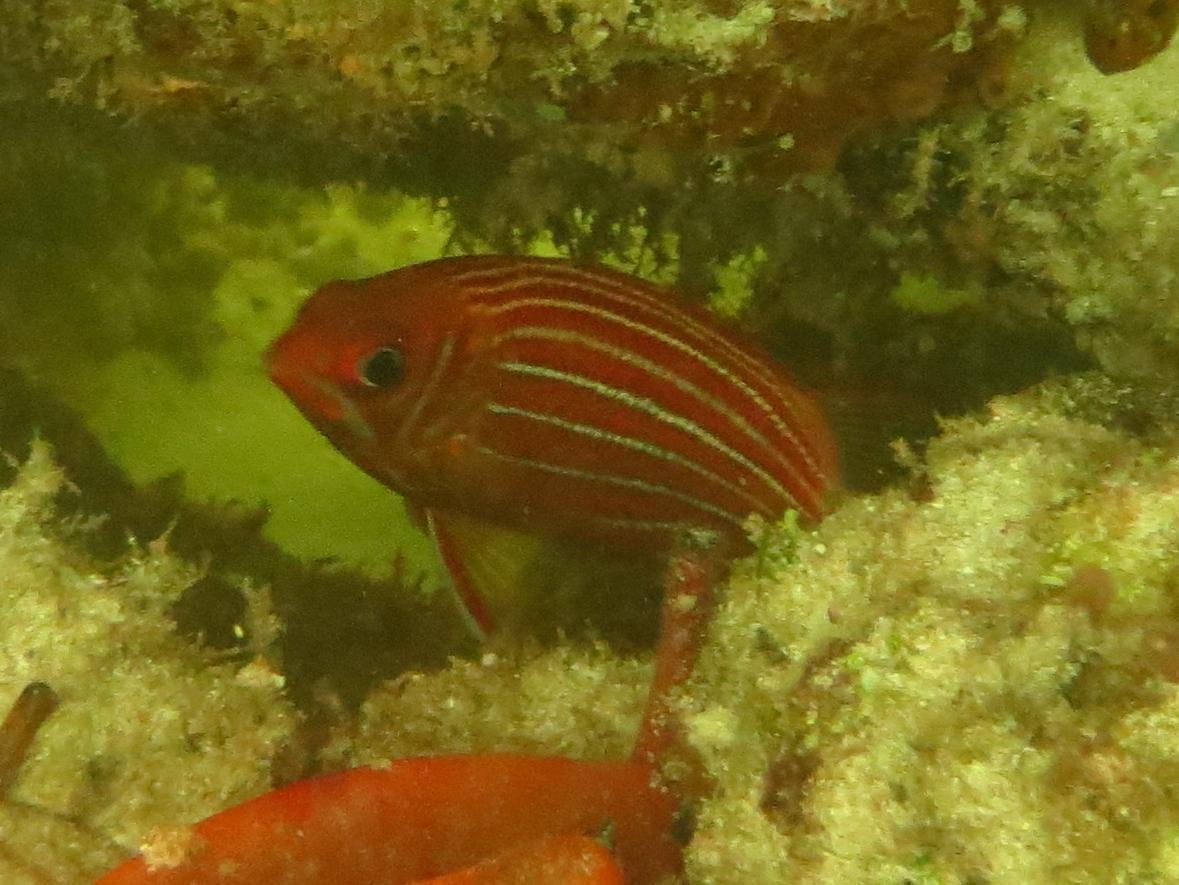Fish: (252, 243, 916, 741)
